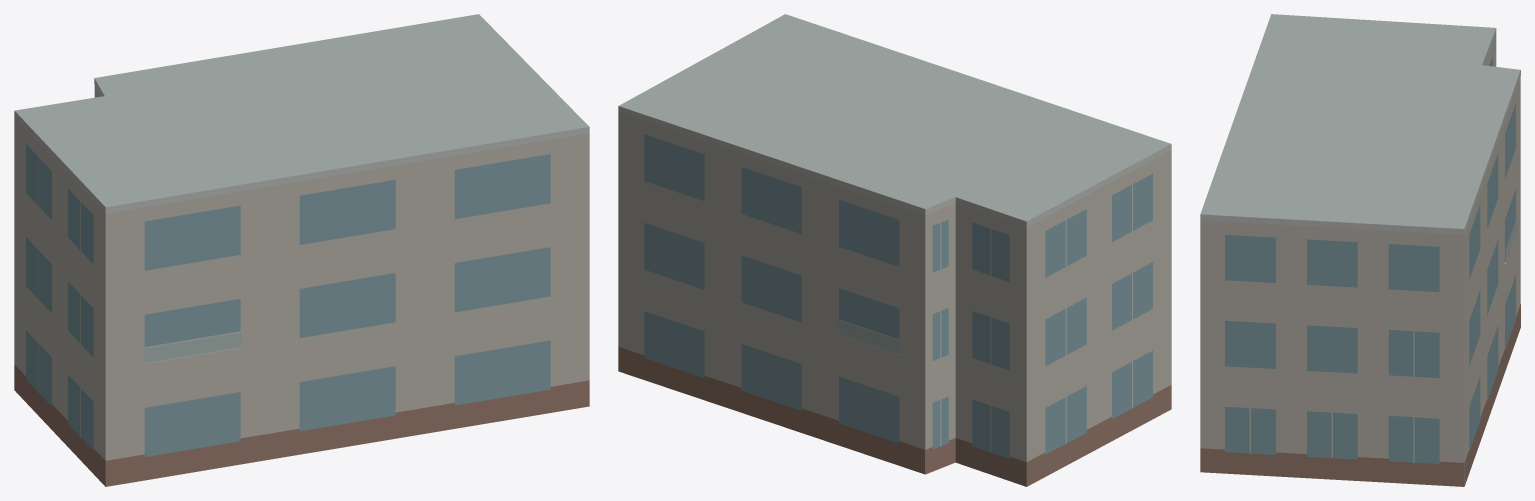
The model's file is survey-upis-32669981.glb.
3 renders of one model, left to right at view 1: azimuth 30°, elevation 25°; view 2: azimuth 150°, elevation 25°; view 3: azimuth 270°, elevation 25°, orthographic. The views are drawn at different scales.
Visible parts, largest first — view 1: survey-upis-32669981.tmp; view 2: survey-upis-32669981.tmp; view 3: survey-upis-32669981.tmp.
Part boxes in pixels (x1,y1,x2,y2): survey-upis-32669981.tmp: (14,14,589,486); survey-upis-32669981.tmp: (618,14,1171,486); survey-upis-32669981.tmp: (1200,14,1520,486).
Bounding box in the file's own units: 19.03 × 10.63 × 11.99.
